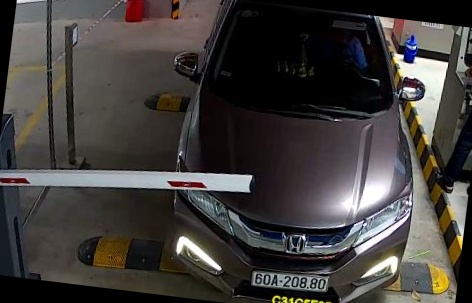plate: (249, 263, 328, 293)
